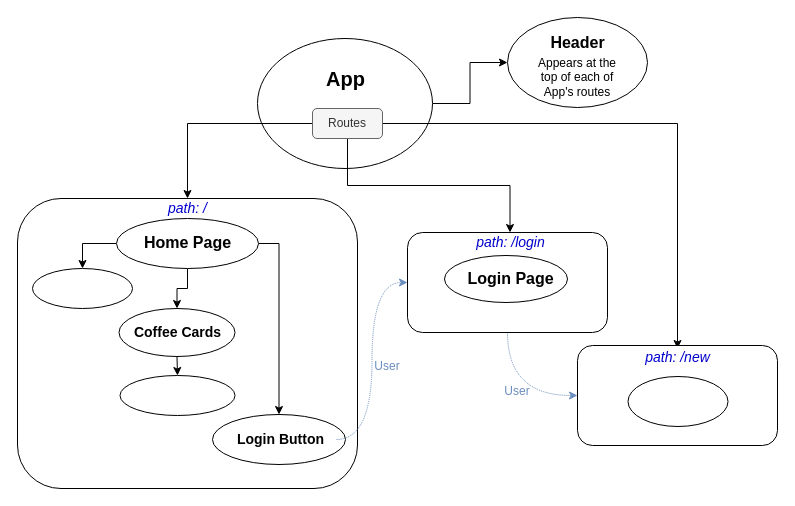
Image size: 795x506. Some labels were removed from this diagram. Each missing label, with the centre of its shape:
"Coffee Card" goes at point 177,395.
"Coffee Img" goes at point 82,288.
"New Page" goes at point 677,401.
